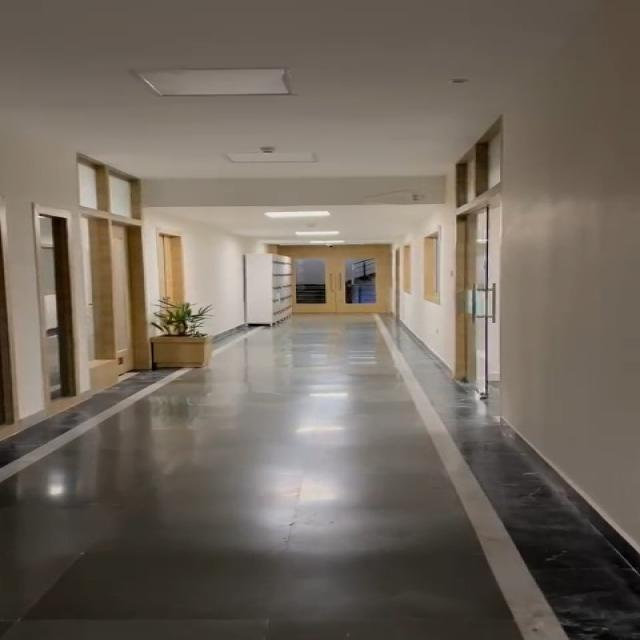door: (438, 160, 498, 428), (75, 168, 149, 379), (19, 202, 89, 400), (302, 240, 387, 312), (147, 231, 191, 304)
floor: (0, 432, 626, 640), (238, 328, 432, 420)
furniture: (147, 301, 213, 375)
wall: (491, 71, 640, 447), (179, 224, 251, 318), (390, 224, 451, 324)
